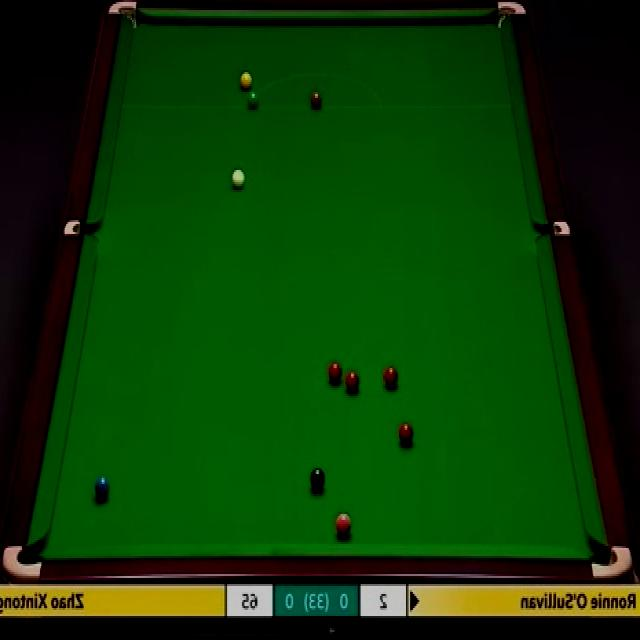pocket: (0, 542, 43, 584), (589, 545, 636, 580), (106, 0, 140, 32), (495, 0, 529, 29), (536, 221, 572, 237), (64, 220, 98, 235)
